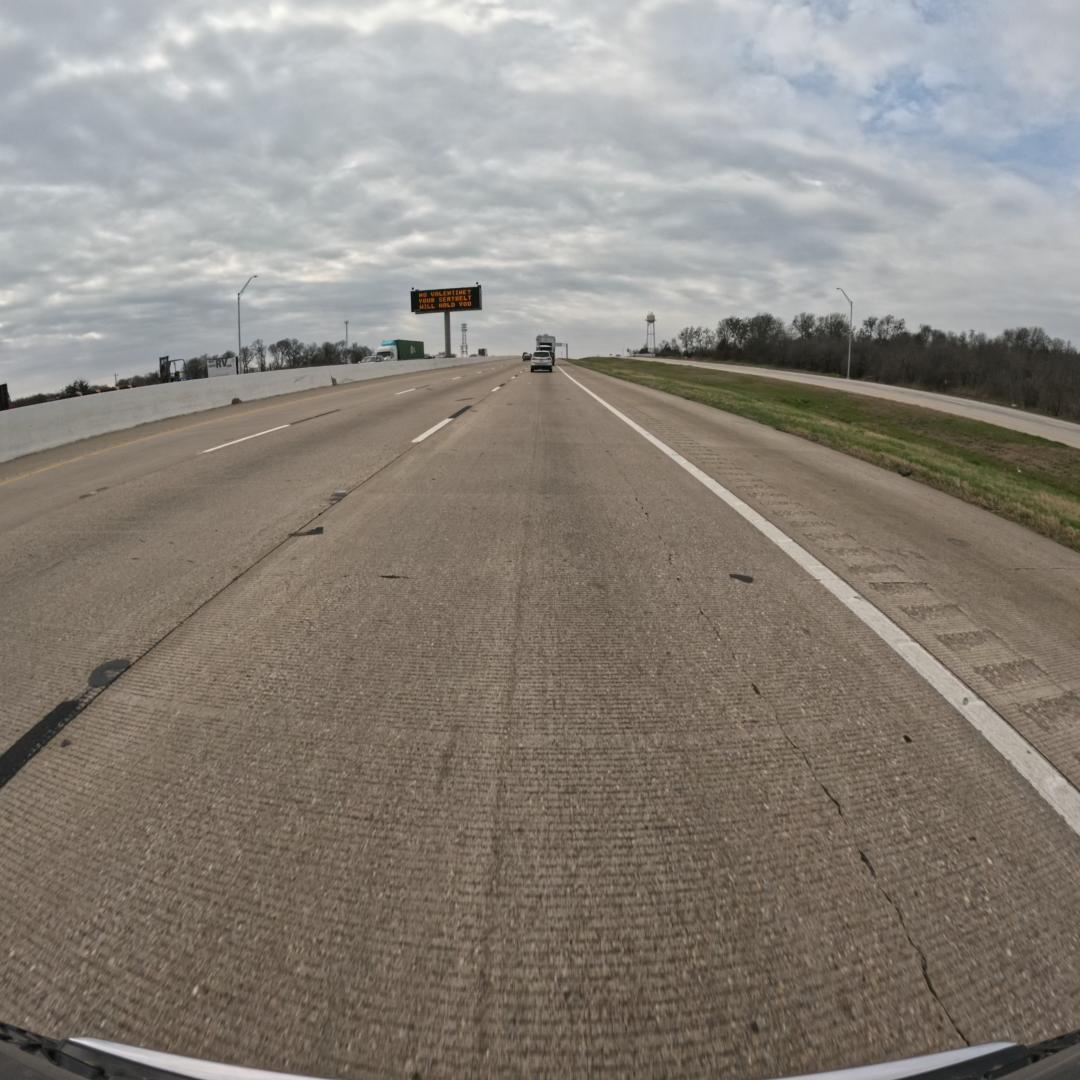lane0: (0, 374, 1080, 1076)
lane1: (0, 368, 517, 756)
